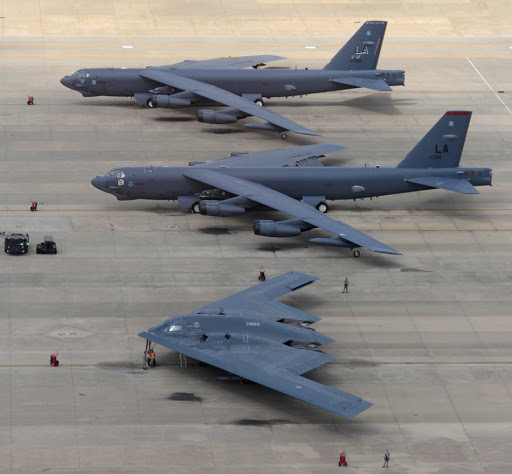B2: (136, 270, 375, 419)
B52: (90, 109, 492, 257), (59, 19, 406, 140)
